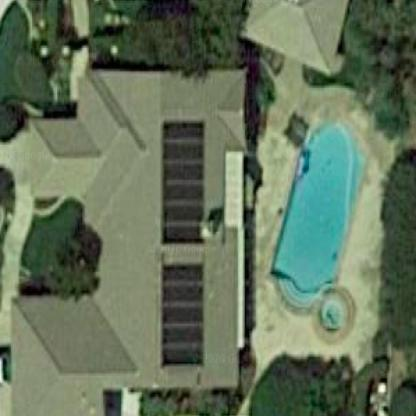solar_panel: (157, 110, 218, 250), (153, 254, 216, 368)
swimming_pool: (274, 107, 366, 338)
